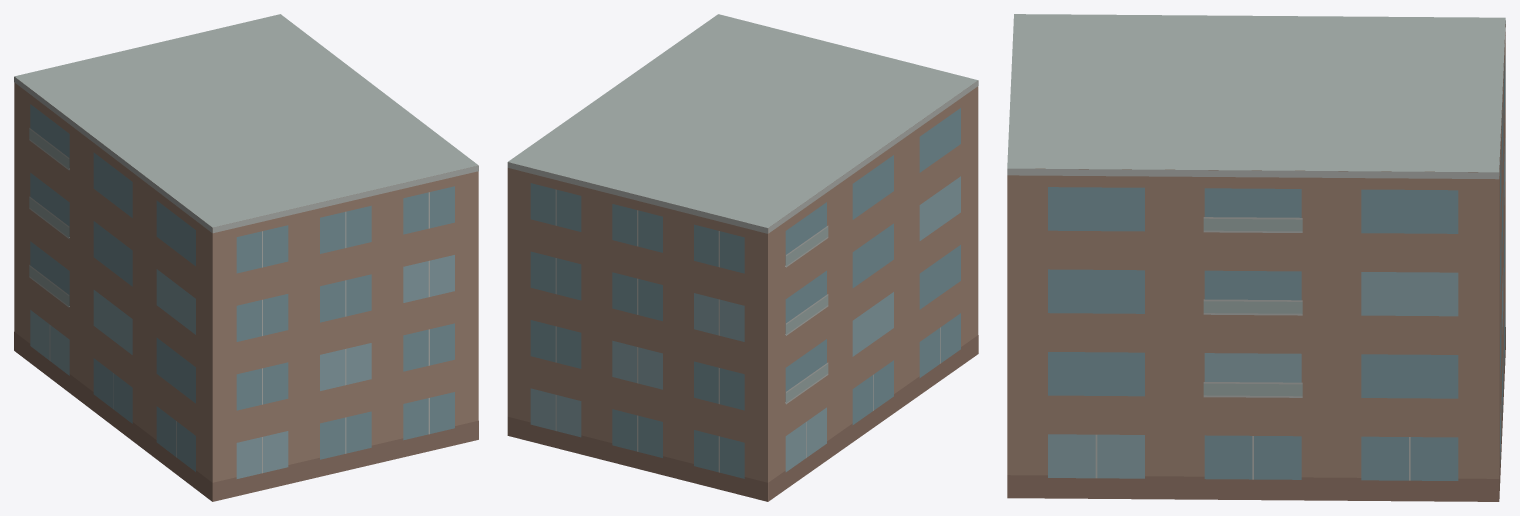
The model's file is survey-upis-32611583.glb.
3 renders of one model, left to right at view 1: azimuth 30°, elevation 25°; view 2: azimuth 150°, elevation 25°; view 3: azimuth 270°, elevation 25°, orthographic. The views are drawn at different scales.
Parts seen in each view (by area): view 1: survey-upis-32611583.tmp; view 2: survey-upis-32611583.tmp; view 3: survey-upis-32611583.tmp.
Boxes of the visible parts, <box> form: survey-upis-32611583.tmp: <box>14,14,478,501</box>; survey-upis-32611583.tmp: <box>507,14,978,501</box>; survey-upis-32611583.tmp: <box>1007,14,1505,501</box>.
Bounding box in the file's own units: 12.01 × 11.65 × 15.98.
